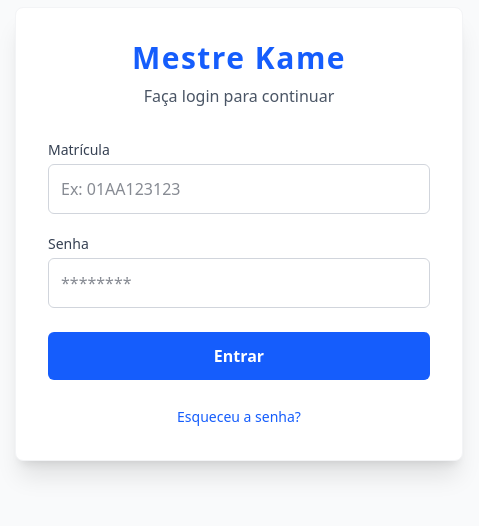
Login › should display error message on login failure
The image size is (479, 526).
Type "invalid" into the field labelled "Matrícula".
click(239, 189); type("invalid")  # box x1=48 y1=164 x2=430 y2=214
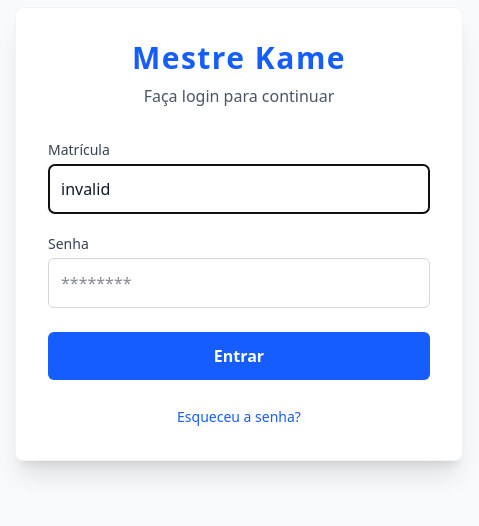
Type "wrong" into the password field labelled "Senha".
click(239, 283); type("wrong")  # box x1=48 y1=258 x2=430 y2=308
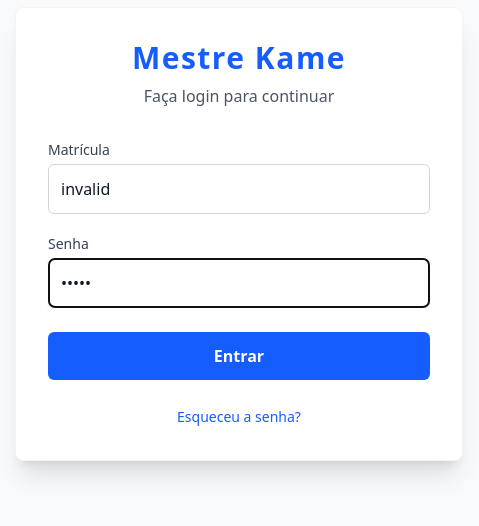
Click the button "Entrar".
click(239, 356)  # box x1=48 y1=332 x2=430 y2=380
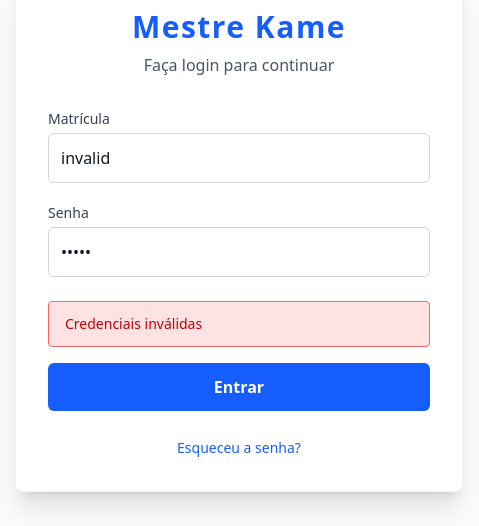
Result: the text "Credenciais inválidas" is shown at x1=65 y1=314 x2=202 y2=333
